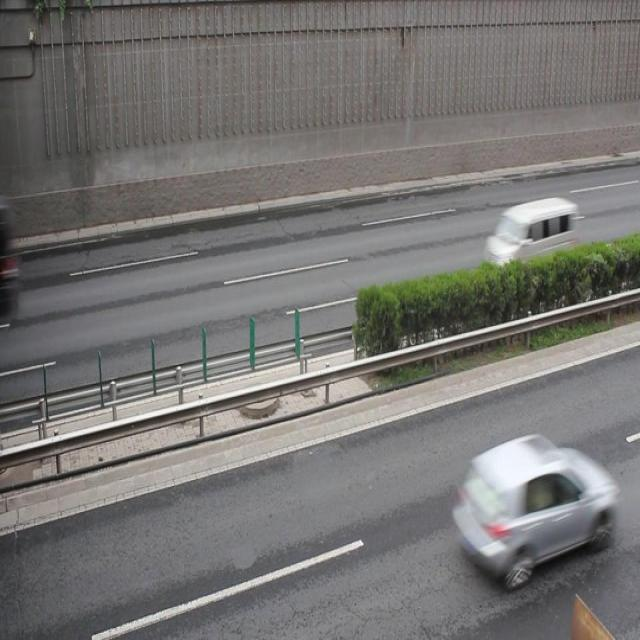car: (454, 427, 616, 580)
truck: (482, 197, 576, 277)
